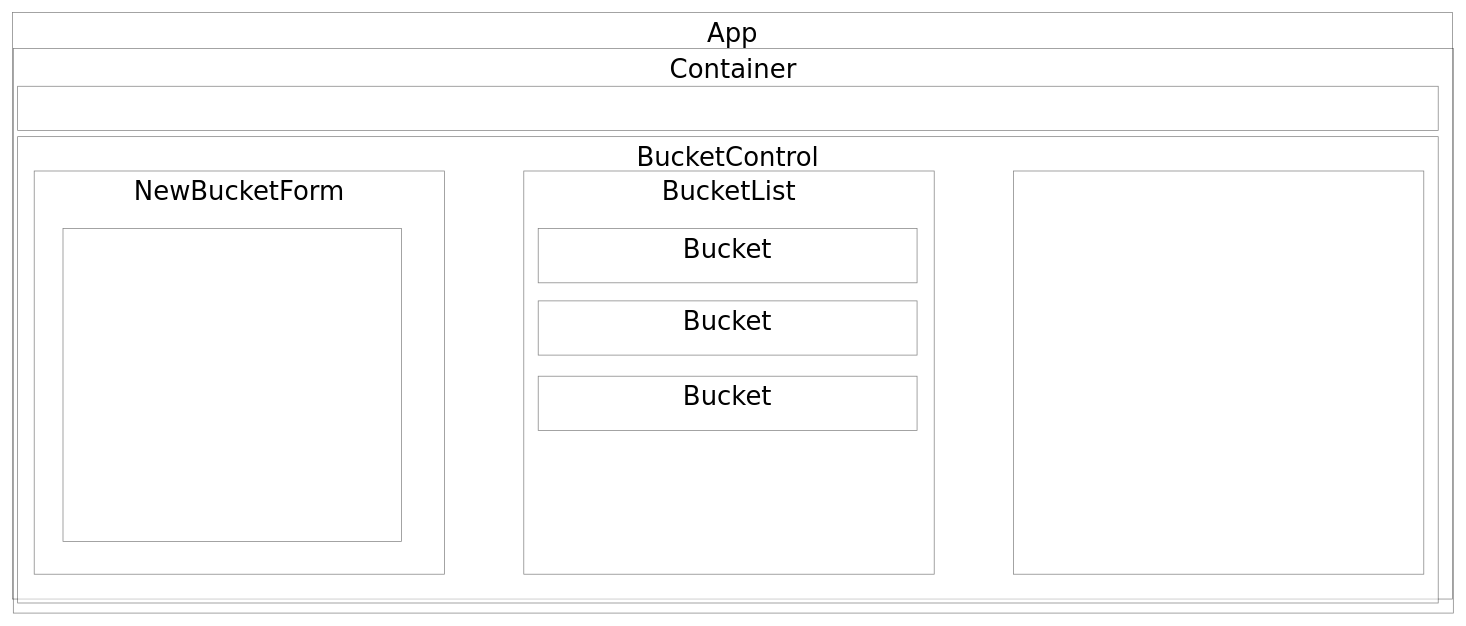
Image size: 1466x626. Some labels were removed from this diagram. The shapes that lost their labels are listed below. From the top down, each one's centre as x and y in pixels, then its label:
point (727, 108): Header
point (231, 384): ReusableForm
point (1218, 372): BucketDetail
